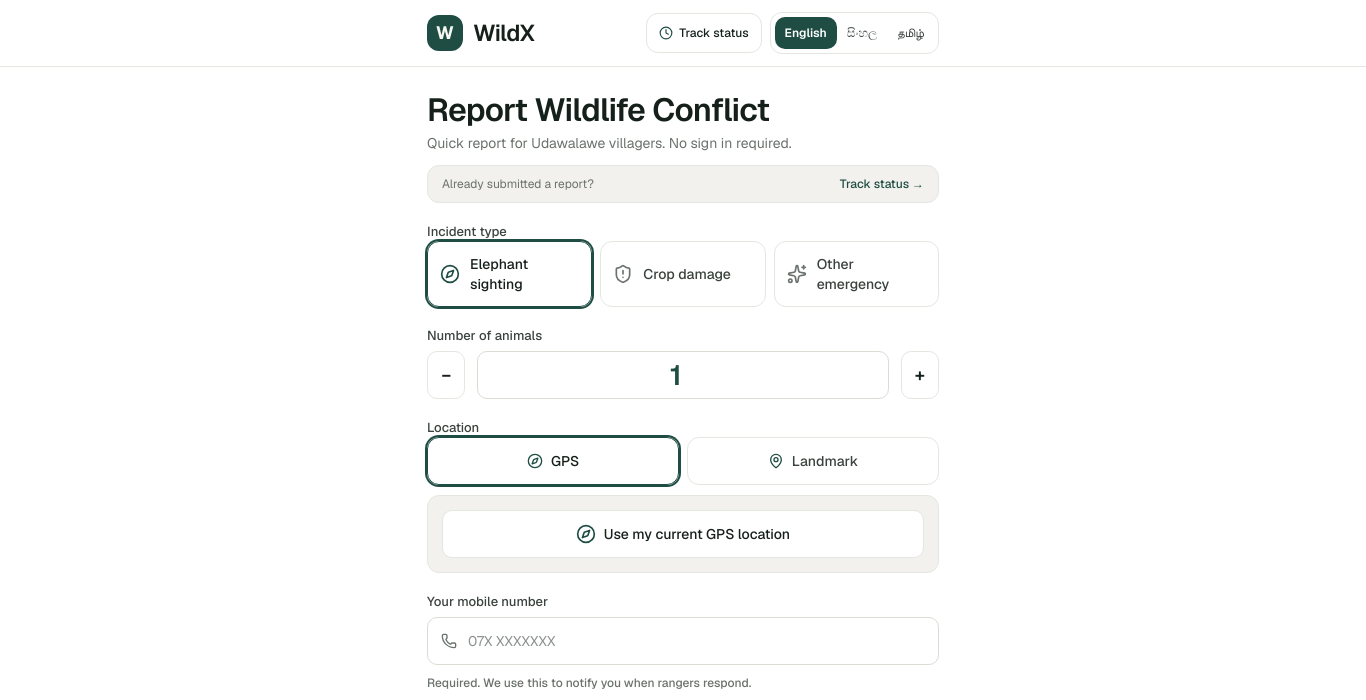
it: COM-02 public report › shows GPS fallback when location is unavailable
Click the button "Use my current GPS location" at (683, 534), box left=442, top=510, right=924, bottom=558
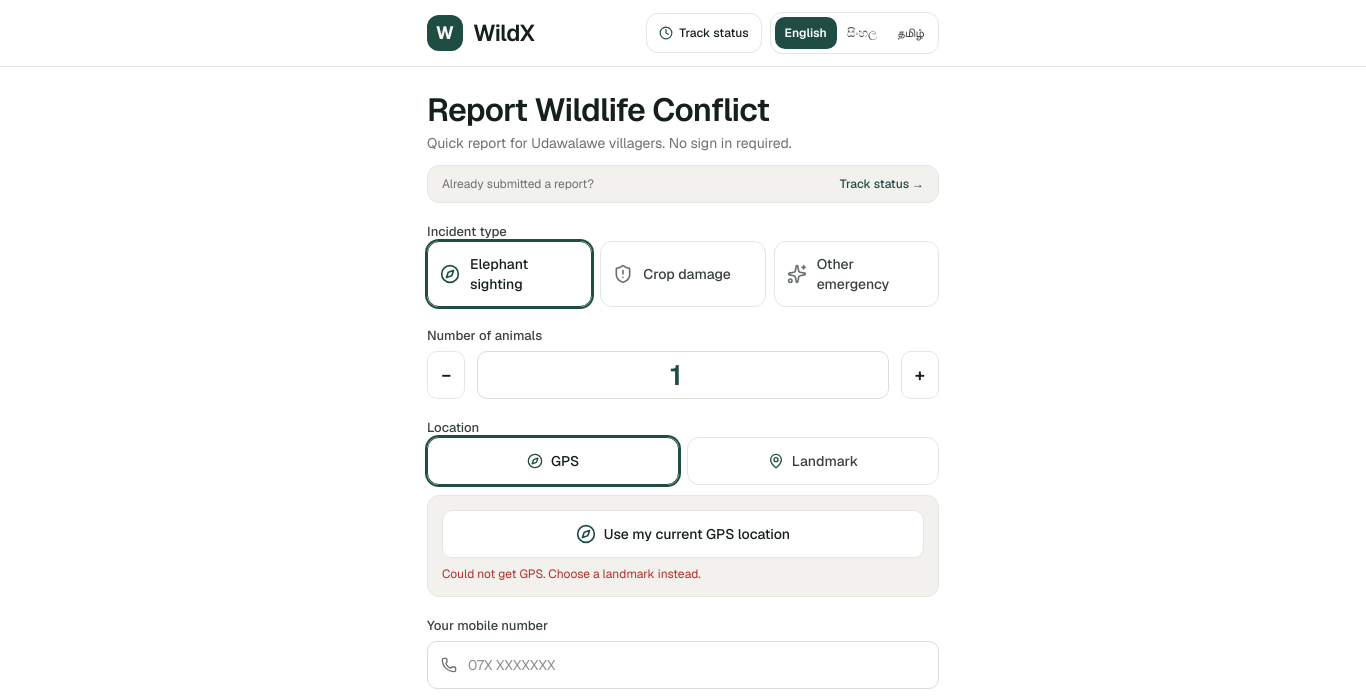
Check: the text "Could not get GPS. Choose a landmark instead." is shown, box left=442, top=566, right=701, bottom=582
Click the button "Landmark" at (813, 461), box left=687, top=437, right=939, bottom=485
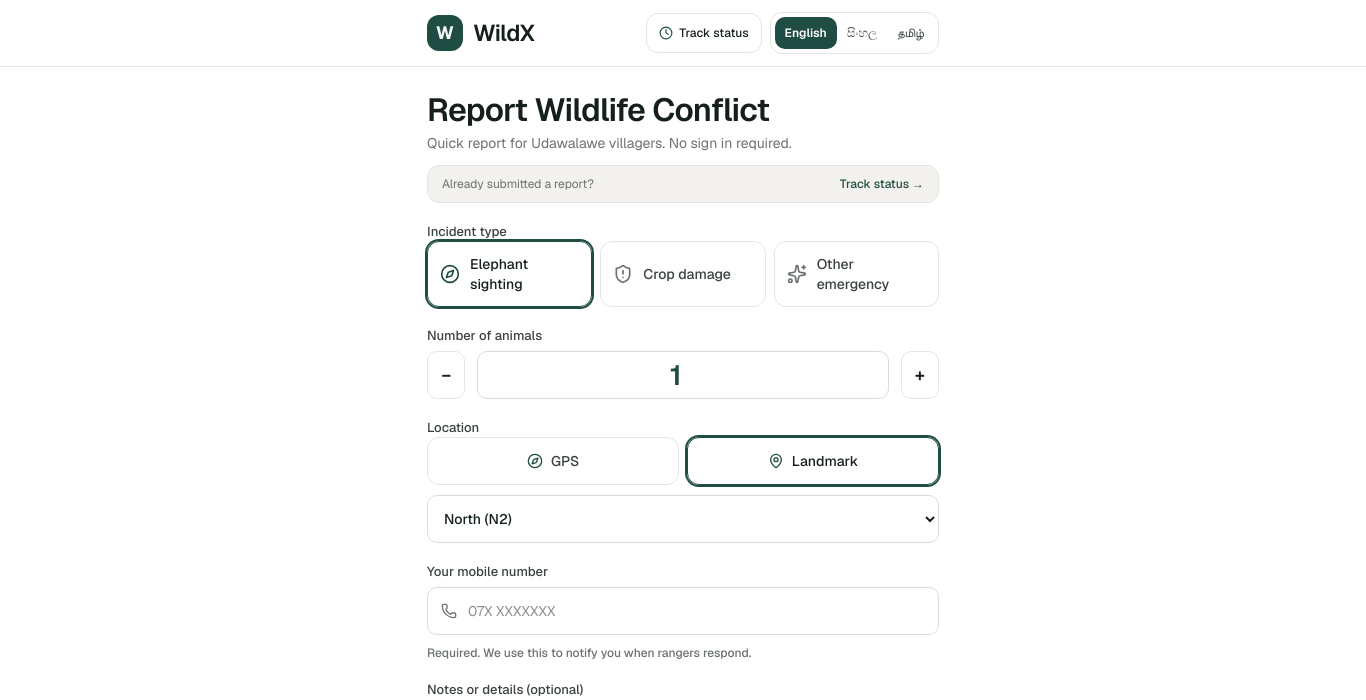
Check: the dropdown is shown, box left=427, top=495, right=939, bottom=543
